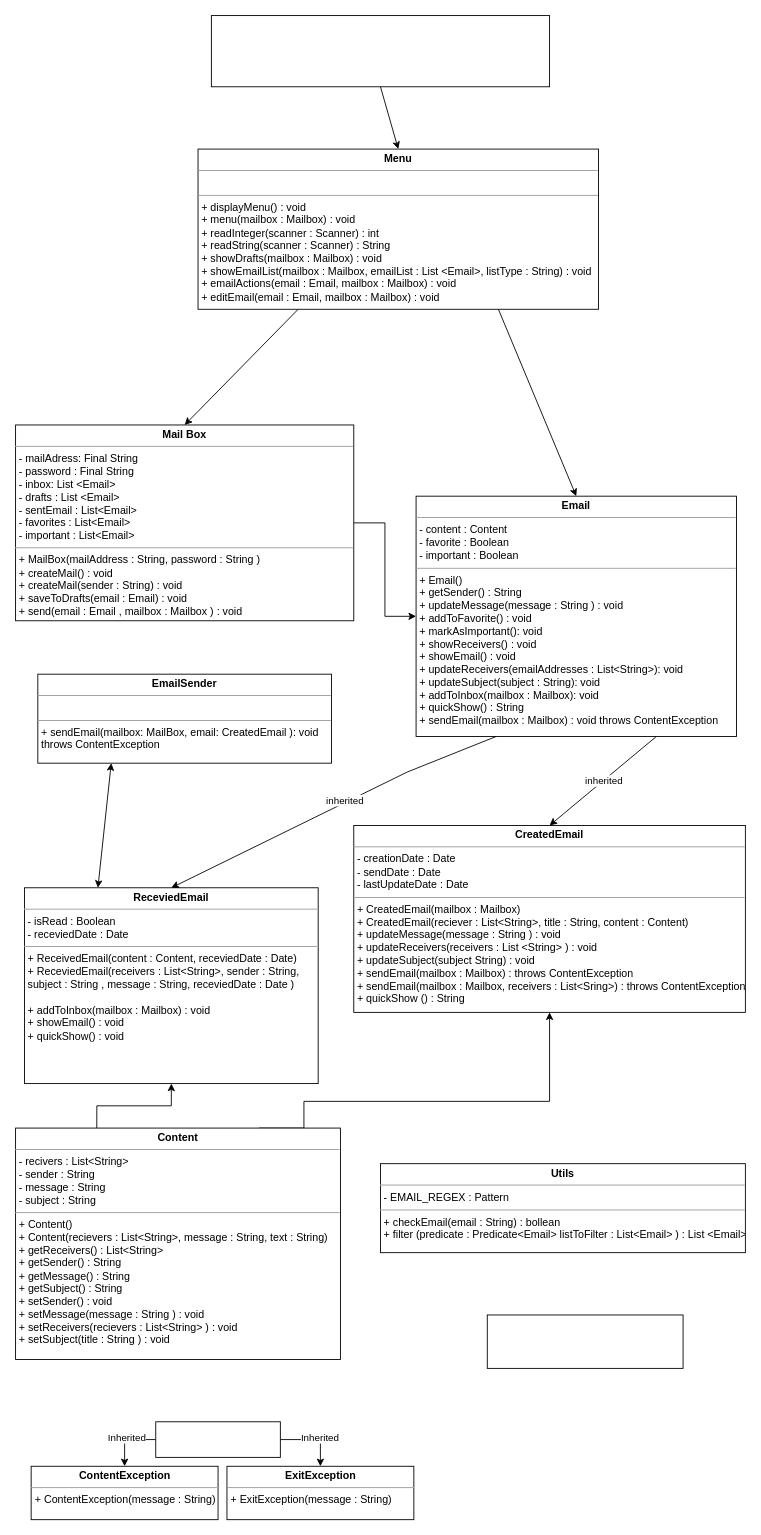
This 761x1535 diagram has some shape labels left out. The centre of each missing label's shape, as x and y in pixels:
Exception: the point at 217,1439
Logs + writeLog (exception : Exception) : void: the point at 584,1341
Main + main(args : String[] ) : void: the point at 380,51
